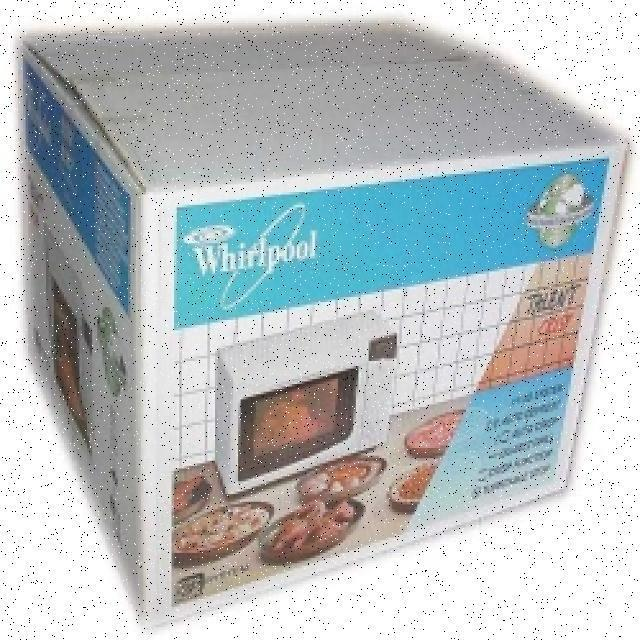box: (12, 11, 634, 621)
